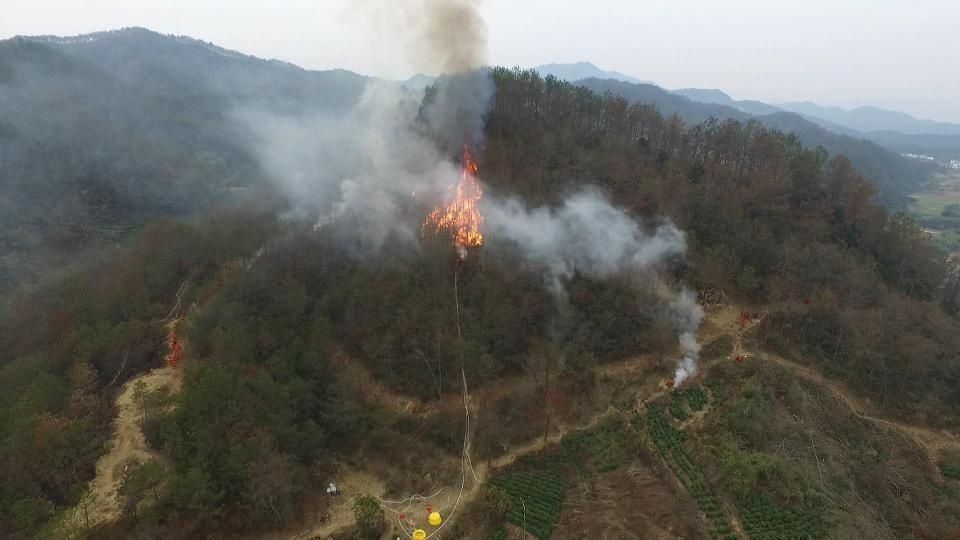fire: (388, 122, 523, 274)
